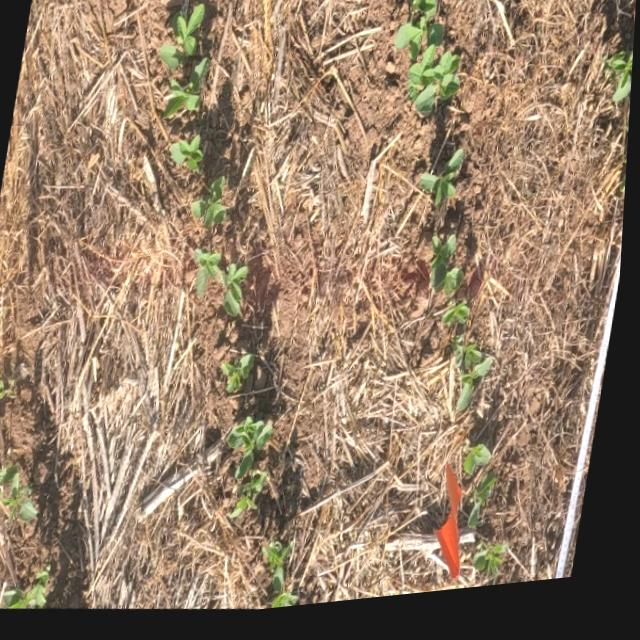soy_plant: (434, 245, 498, 420), (395, 0, 462, 124), (161, 8, 209, 119), (231, 422, 279, 523), (196, 254, 251, 322), (467, 454, 503, 539), (421, 158, 466, 217), (268, 546, 306, 615), (2, 469, 44, 522), (7, 570, 56, 609), (195, 181, 228, 232), (607, 60, 635, 114), (225, 359, 257, 399), (171, 140, 206, 175), (480, 554, 514, 588), (2, 379, 20, 401)
